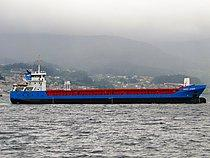Ship: (8, 57, 210, 109)
